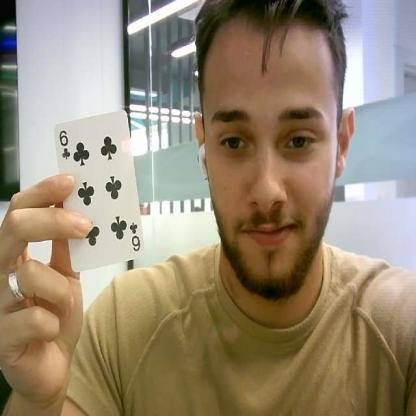6C: (59, 128, 70, 160), (130, 219, 140, 250)
